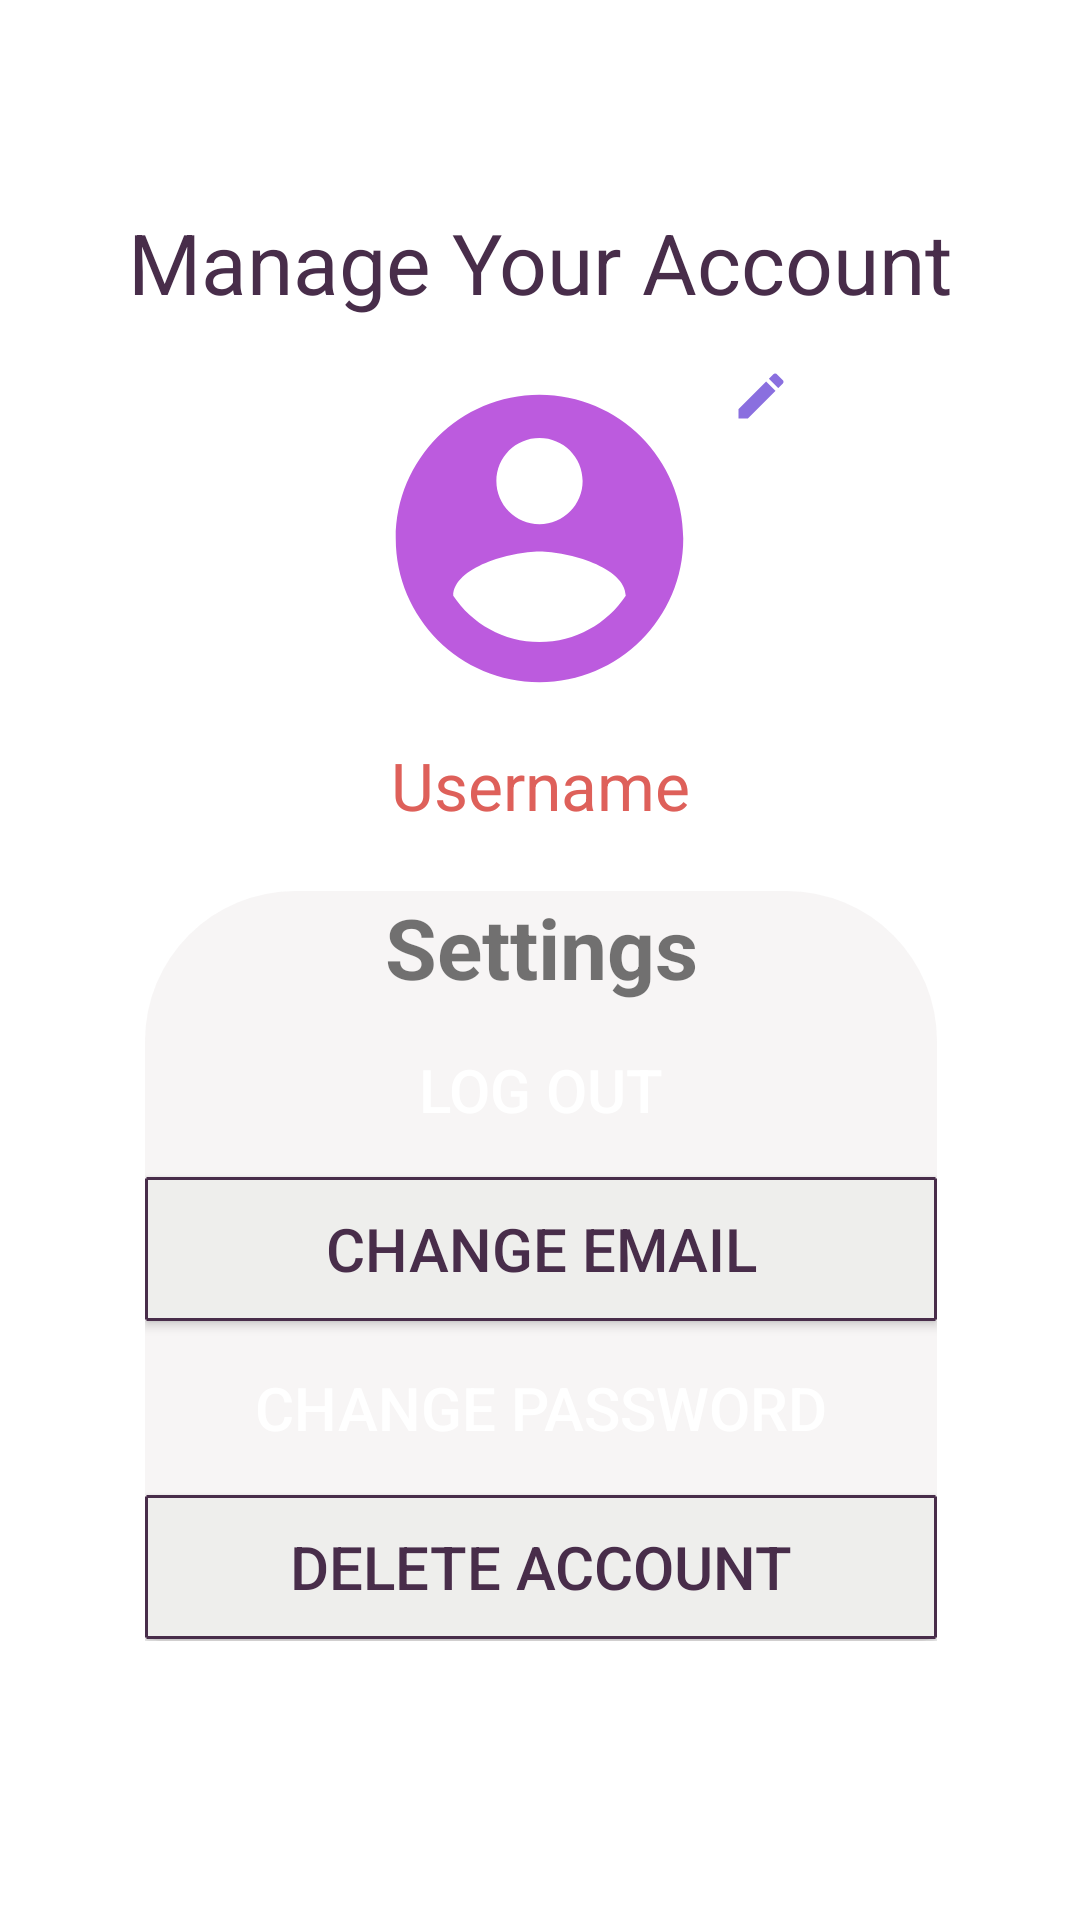

Screen size 1080 x 1920. Icon name, then its box in pixels as (x1, y1, x2, y2):
Edit Notes Here: (738, 373, 784, 419)
This is the Image of User: (395, 394, 684, 683)
